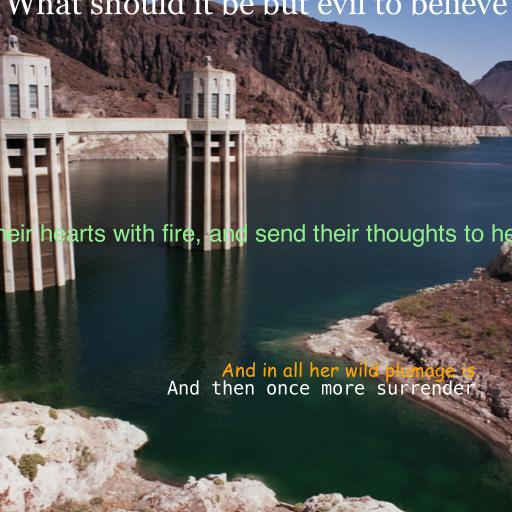Comic Sans MS: (221, 361, 475, 382)
Georgia: (5, 0, 507, 15)
Menlo: (167, 380, 475, 395)
SignPainter: (0, 224, 512, 247)
